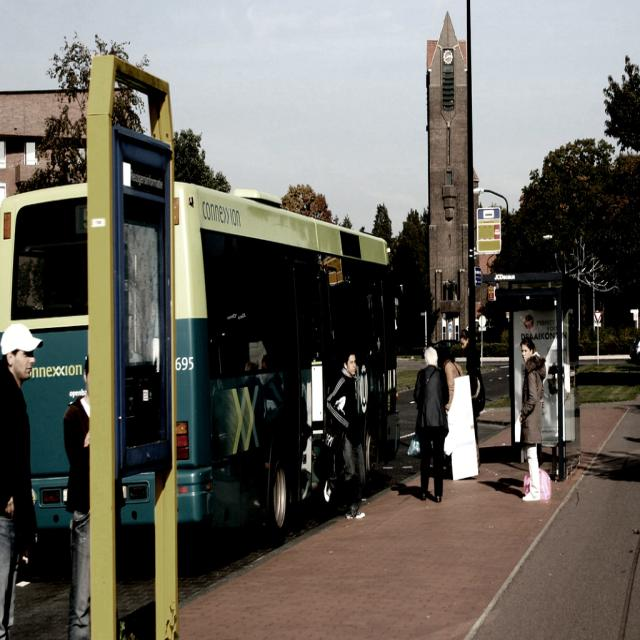Pedestrians: (1, 322, 40, 639), (325, 356, 367, 524), (412, 348, 450, 506), (518, 336, 547, 504)
